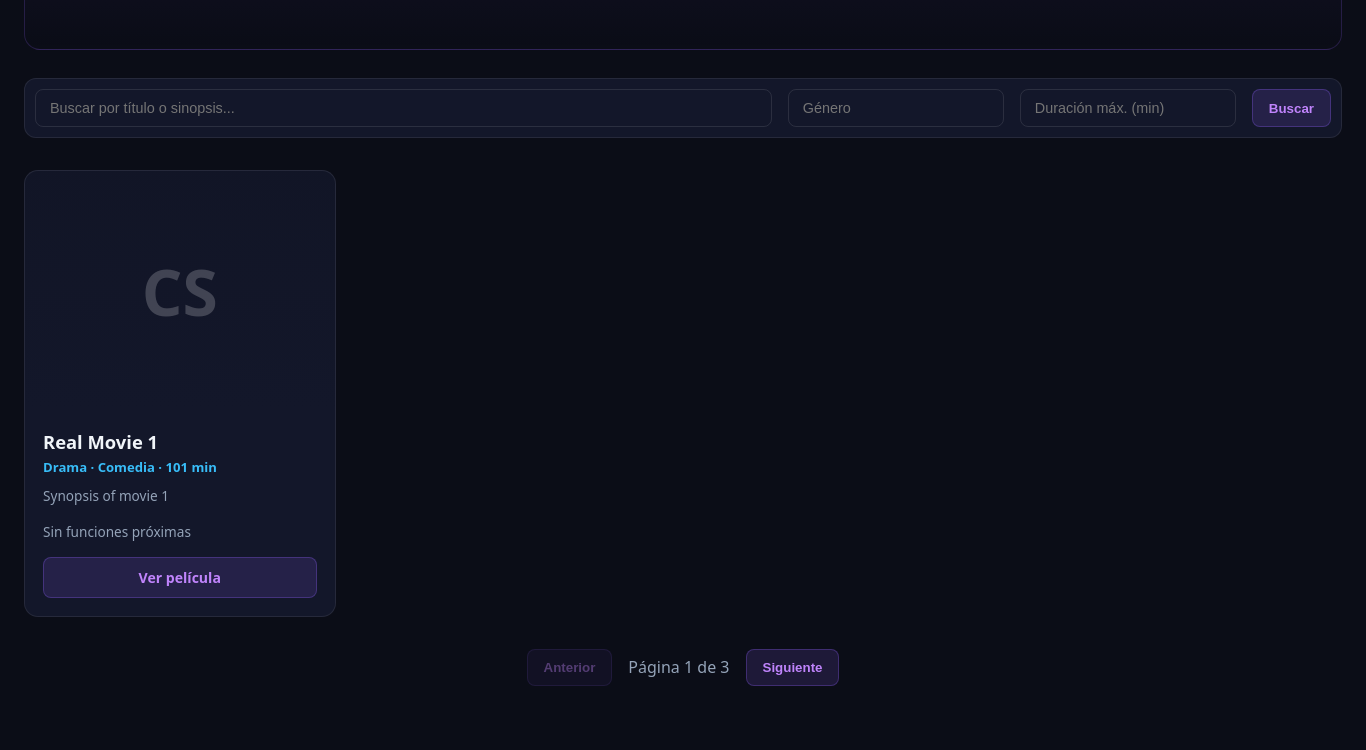
it: BillboardPageComponent › the pages › shows the page and asks the next one with the same filters
(page scrolled)
Click the button with class "next": click(792, 667) [746,649,840,686]
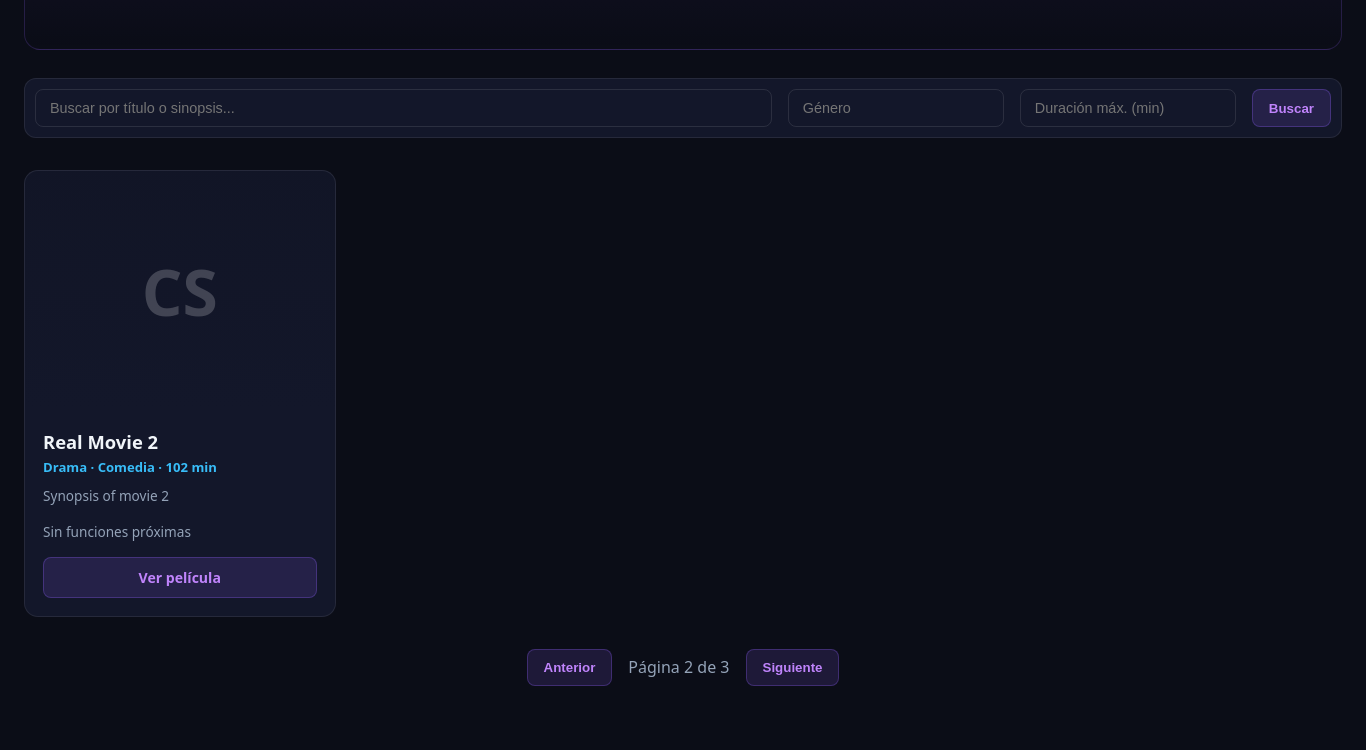
Now the text "Página 2 de 3" is shown, box [628,656,730,678]
